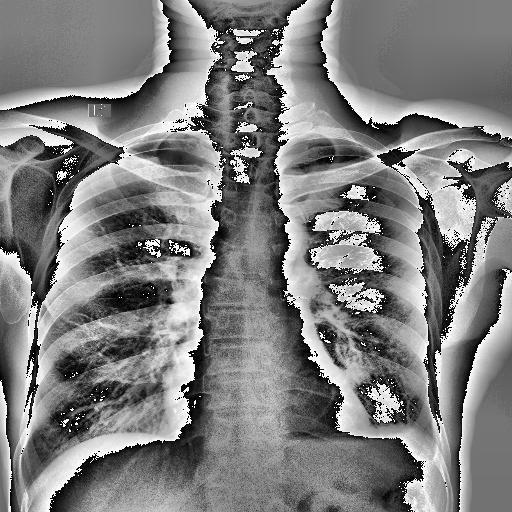10- Pleural effusion: (418, 422, 446, 460), (416, 427, 444, 461)
11- Pleural thickening: (406, 422, 446, 462), (418, 422, 446, 460), (416, 427, 444, 461)
12- Pneumothorax: (281, 132, 430, 246), (284, 134, 422, 236), (280, 136, 424, 232)
